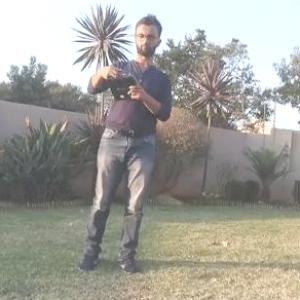follow: (73, 5, 177, 280)
